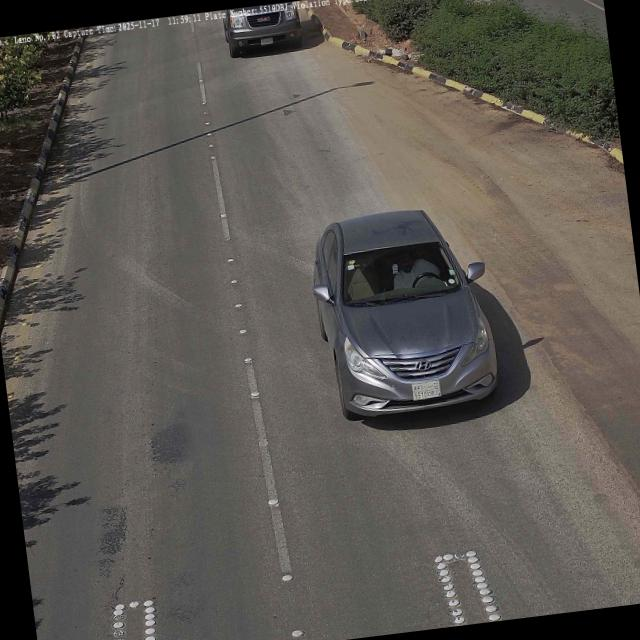person_without_seatbelt: (391, 248, 444, 294)
